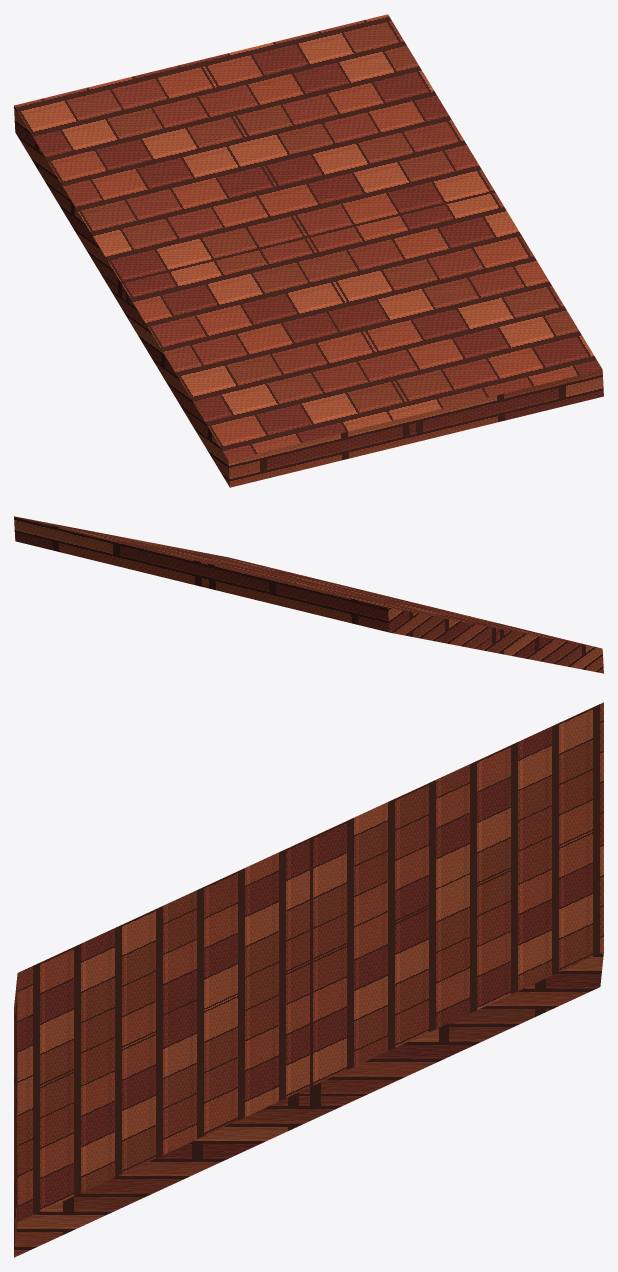
File: byzantine terracotta roof triangle.glb
3 views of the same model, one above another, from view 1: azimuth 30°, elevation 25°; view 2: azimuth 150°, elevation 25°; view 3: azimuth 270°, elevation 25° (orthographic). The views are drawn at different scales.
Visible parts, largest first — view 1: ByzantineTerracottaRoofTriangle; view 2: ByzantineTerracottaRoofTriangle; view 3: ByzantineTerracottaRoofTriangle.
Part boxes in pixels (x1,y1,x2,y2): ByzantineTerracottaRoofTriangle: (14,14,603,487); ByzantineTerracottaRoofTriangle: (14,516,603,673); ByzantineTerracottaRoofTriangle: (14,702,603,1257).
Bounding box in the file's own units: 1 × 0.5726 × 1.
Materials: 1 (1 with a texture image).
